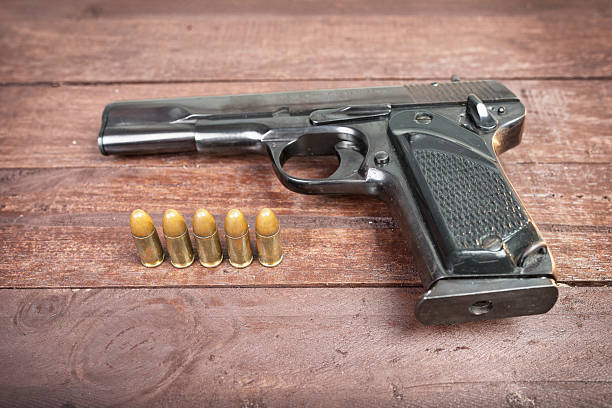gun: (96, 77, 560, 325)
